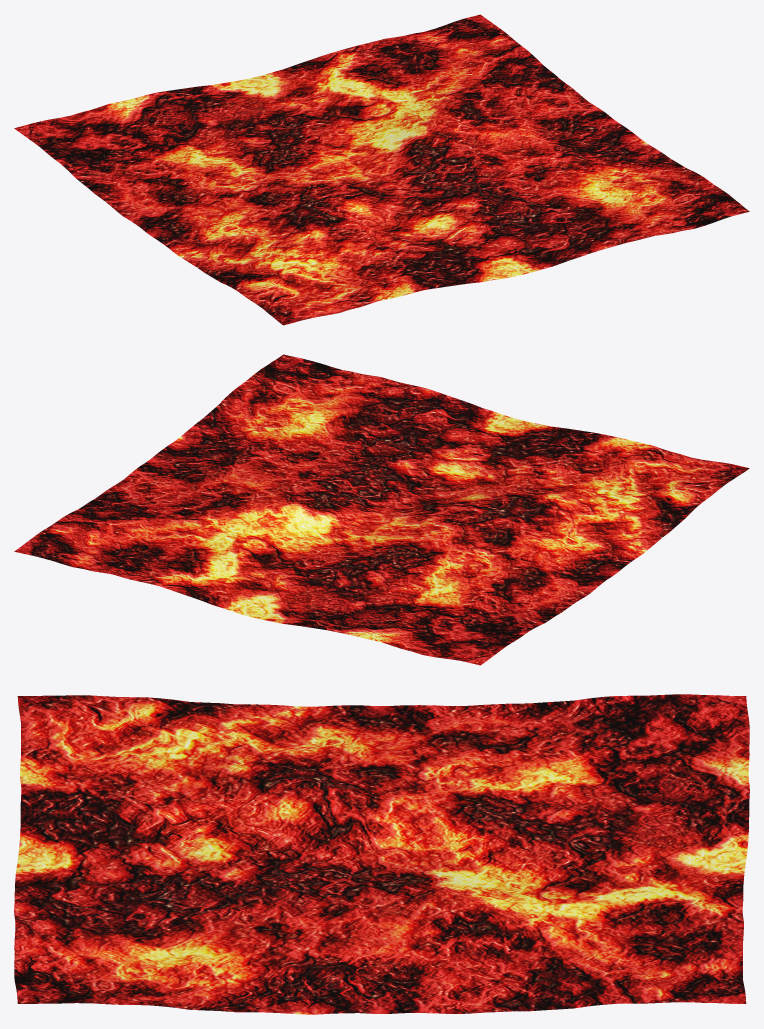
Rendered from Lava1.glb.
3 views of the same model, one above another, from view 1: azimuth 30°, elevation 25°; view 2: azimuth 150°, elevation 25°; view 3: azimuth 270°, elevation 25° (orthographic). The views are drawn at different scales.
Visible parts, largest first — view 1: Plane.001; view 2: Plane.001; view 3: Plane.001.
Part boxes in pixels (x1,y1,x2,y2): Plane.001: [14, 14, 749, 325]; Plane.001: [14, 354, 749, 665]; Plane.001: [14, 694, 749, 1014].
Size of the model in its own units: 2.03 by 0.0626 by 2.04.
1 material, 1 textured.
